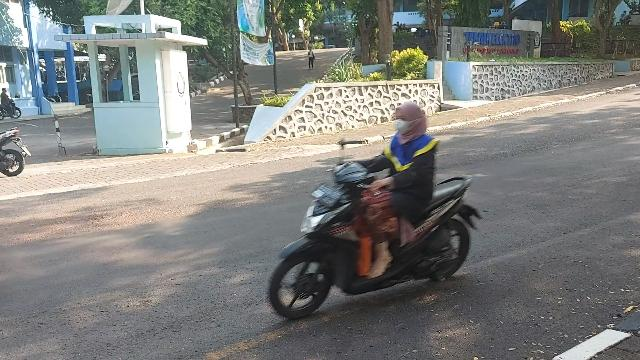motor: (270, 138, 485, 322)
non-helm: (397, 104, 426, 134)
